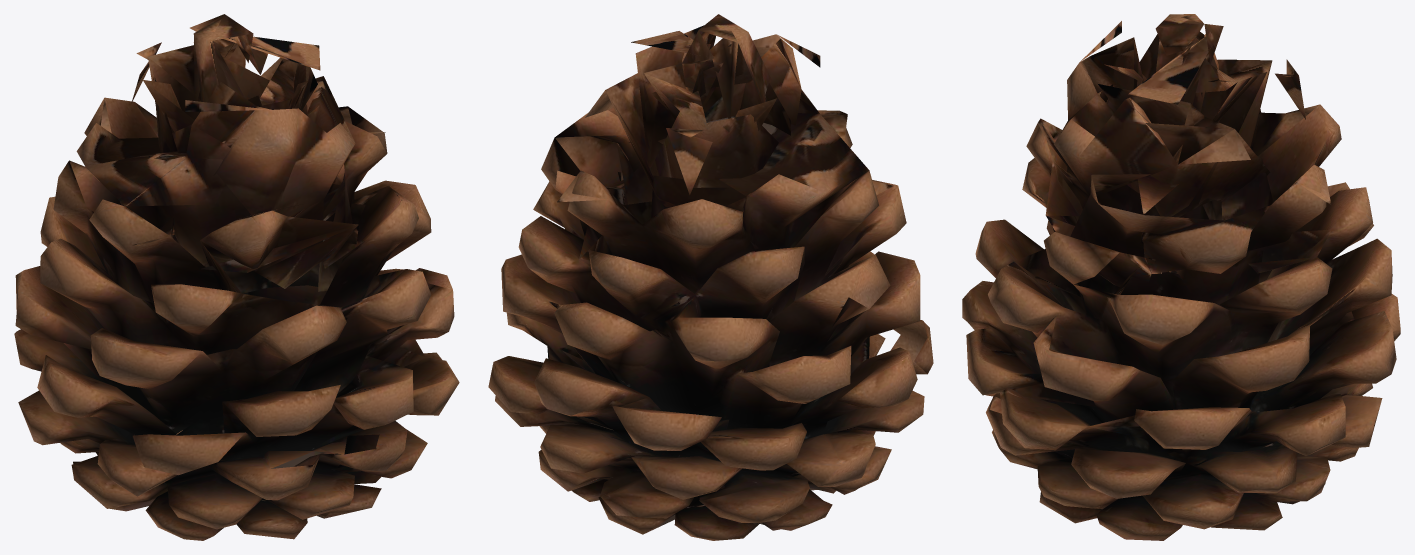
Rendered from kozalak.glb.
The picture shows the model from 3 angles, left to right: view 1: azimuth 30°, elevation 25°; view 2: azimuth 150°, elevation 25°; view 3: azimuth 270°, elevation 25°; orthographic projection.
Parts seen in each view (by area): view 1: tripo_node_881e6f99-5e18-4584-8688-caeb5f9141c2; view 2: tripo_node_881e6f99-5e18-4584-8688-caeb5f9141c2; view 3: tripo_node_881e6f99-5e18-4584-8688-caeb5f9141c2.
Part boxes in pixels (x1=…): tripo_node_881e6f99-5e18-4584-8688-caeb5f9141c2: x1=14, y1=14, x2=459, y2=540; tripo_node_881e6f99-5e18-4584-8688-caeb5f9141c2: x1=488, y1=14, x2=933, y2=540; tripo_node_881e6f99-5e18-4584-8688-caeb5f9141c2: x1=962, y1=14, x2=1400, y2=540.
Bounding box in the file's own units: 0.8434 × 1 × 0.8434.
Materials: 1 (1 with a texture image).
